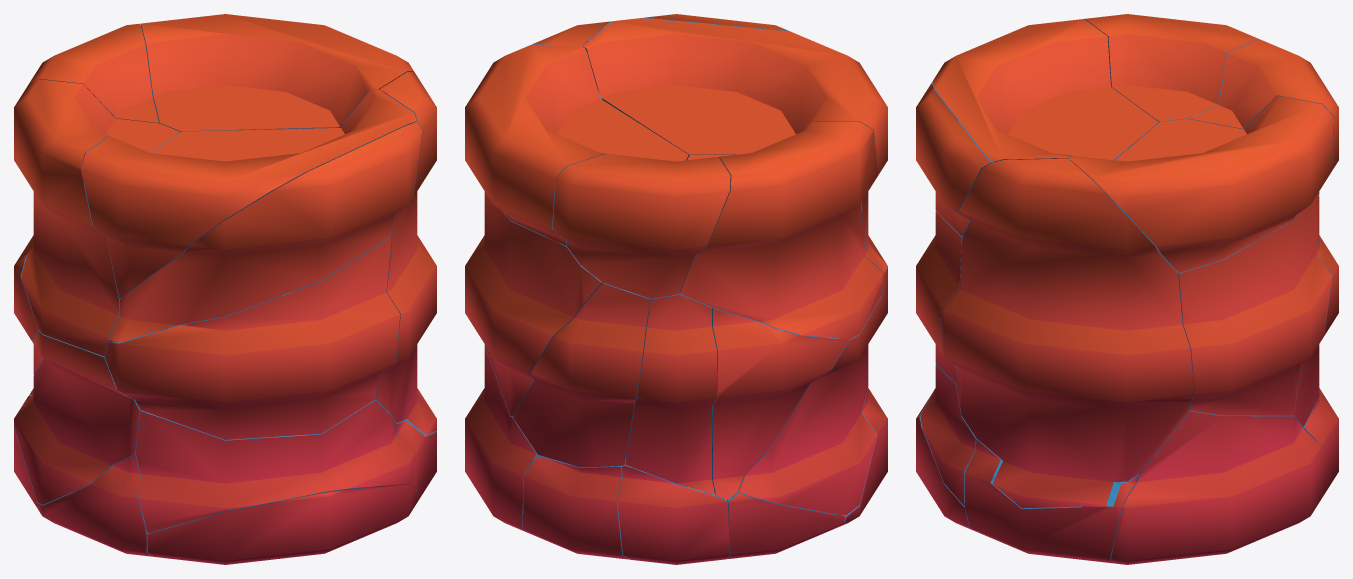
File: BarrelA_broken.glb
3 views of the same model, side by side, from view 1: azimuth 30°, elevation 25°; view 2: azimuth 150°, elevation 25°; view 3: azimuth 270°, elevation 25° (orthographic).
Parts seen in each view (by area): view 1: Barrel_A_cell.004, Barrel_A_cell.007, Barrel_A_cell.019, Barrel_A_cell.018, Barrel_A_cell.014, Barrel_A_cell.002, Barrel_A_cell.006, Barrel_A_cell.008, Barrel_A_cell.015, Barrel_A_cell, Barrel_A_cell.005, Barrel_A_cell.012 (+2 smaller); view 2: Barrel_A_cell.014, Barrel_A_cell.019, Barrel_A_cell.018, Barrel_A_cell, Barrel_A_cell.009, Barrel_A_cell.010, Barrel_A_cell.006, Barrel_A_cell.013, Barrel_A_cell.017, Barrel_A_cell.011, Barrel_A_cell.016, Barrel_A_cell.003 (+4 smaller); view 3: Barrel_A_cell.015, Barrel_A_cell.018, Barrel_A_cell.003, Barrel_A_cell.010, Barrel_A_cell.019, Barrel_A_cell.014, Barrel_A_cell.012, Barrel_A_cell, Barrel_A_cell.007, Barrel_A_cell.002, Barrel_A_cell.004, Barrel_A_cell.009 (+2 smaller).
Part boxes in pixels (box(x1,y1,x2,y2)): Barrel_A_cell.004: box(104, 237, 400, 439); Barrel_A_cell.007: box(108, 122, 422, 342); Barrel_A_cell.019: box(81, 89, 416, 298); Barrel_A_cell.018: box(141, 14, 413, 131); Barrel_A_cell.014: box(14, 79, 179, 356); Barrel_A_cell.002: box(135, 400, 415, 533); Barrel_A_cell.006: box(14, 330, 140, 504); Barrel_A_cell.008: box(147, 484, 417, 564); Barrel_A_cell.015: box(375, 71, 436, 435); Barrel_A_cell: box(28, 23, 158, 123); Barrel_A_cell.005: box(37, 451, 151, 556); Barrel_A_cell.012: box(395, 419, 436, 501); Barrel_A_cell.014: box(679, 121, 883, 339); Barrel_A_cell.019: box(582, 18, 887, 238); Barrel_A_cell.018: box(465, 44, 688, 245); Barrel_A_cell: box(552, 153, 730, 298); Barrel_A_cell.009: box(513, 283, 650, 467); Barrel_A_cell.010: box(465, 192, 602, 416); Barrel_A_cell.006: box(737, 296, 886, 515); Barrel_A_cell.013: box(625, 293, 716, 494); Barrel_A_cell.017: box(711, 307, 848, 499); Barrel_A_cell.011: box(617, 462, 729, 564); Barrel_A_cell.016: box(523, 455, 627, 559); Barrel_A_cell.003: box(465, 346, 538, 534); Barrel_A_cell.015: box(939, 158, 1194, 508); Barrel_A_cell.018: box(1069, 95, 1333, 272); Barrel_A_cell.003: box(1111, 410, 1321, 564); Barrel_A_cell.010: box(1176, 194, 1332, 415); Barrel_A_cell.019: box(932, 19, 1158, 162); Barrel_A_cell.014: box(1084, 14, 1258, 122); Barrel_A_cell.012: box(964, 438, 1140, 563); Barrel_A_cell: box(1187, 39, 1338, 195); Barrel_A_cell.007: box(916, 82, 992, 236); Barrel_A_cell.002: box(920, 364, 976, 505); Barrel_A_cell.004: box(916, 211, 962, 383); Barrel_A_cell.009: box(1294, 235, 1338, 427).
Bounding box in the file's own units: 1 × 1 × 1.
1 material, 1 textured.
